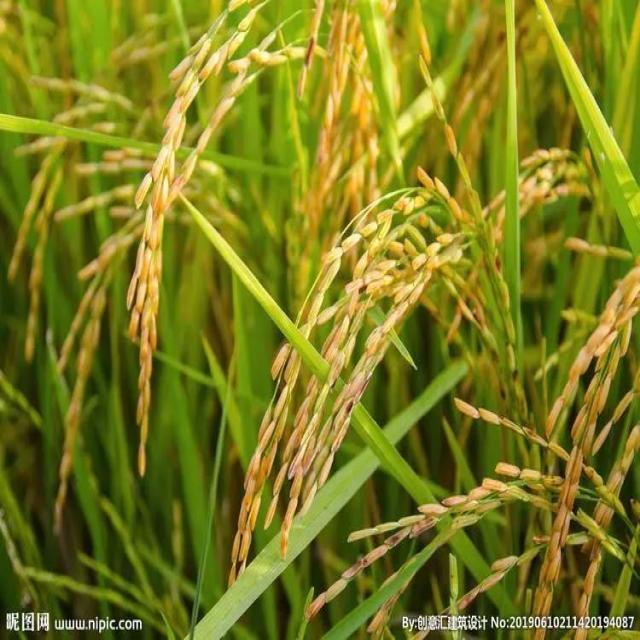Padi: (266, 156, 640, 584), (26, 10, 244, 640), (296, 2, 410, 192)
